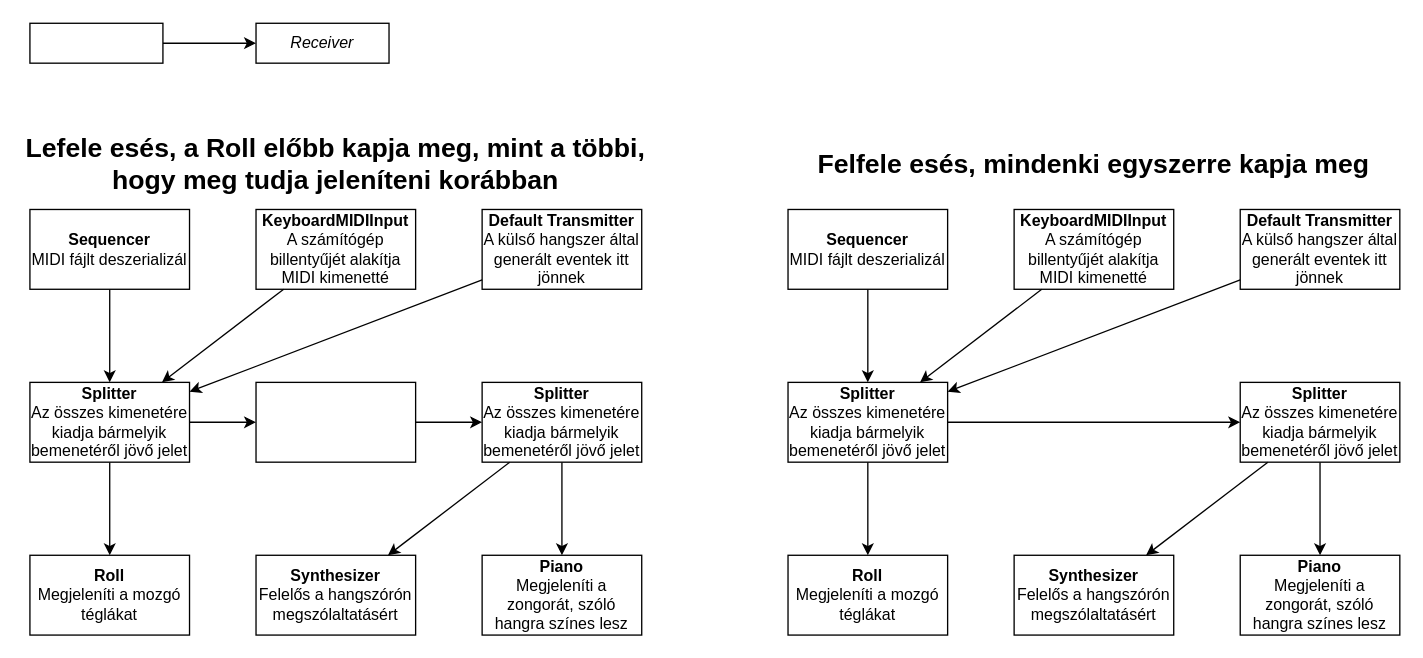
This 1423x658 diagram has some shape labels left out. The shapes that lost their labels are listed below. From the top down, each one's centre as x and y in pixels, then its label:
At [96,42]: "Transmitter".
At [335,421]: "Delayer Kiadja a bejövő eventeket késleltetve".
